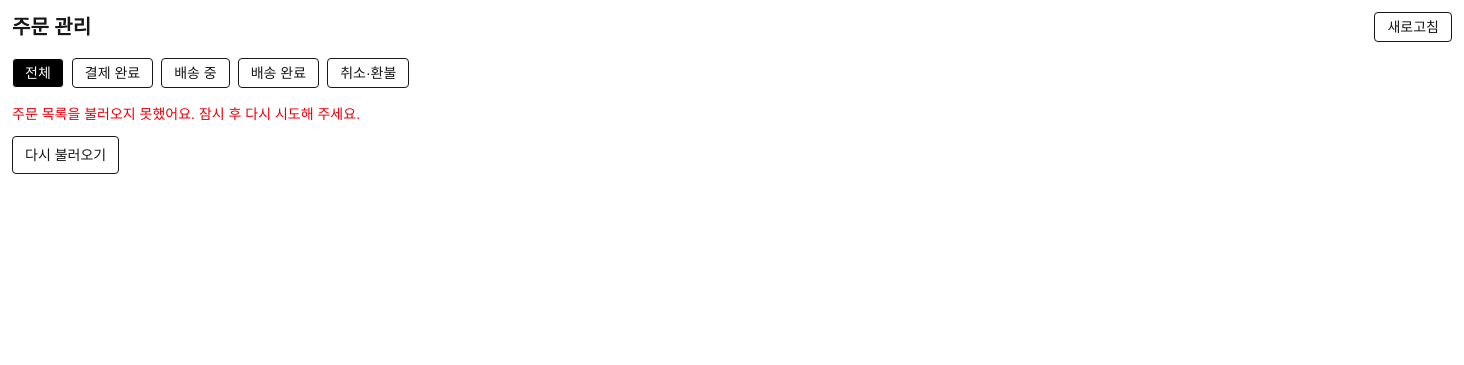
Test case: 관리자 주문 목록 › 실패: 불러오기에 실패하면 alert와 다시 불러오기 버튼을 보이고, 누르면 다시 가져온다
Expected: the message reads "주문 목록을 불러오지 못했어요. 잠시 후 다시 시도해 주세요.", [12,106,360,122]
Click the button "다시 불러오기".
click(66, 155)  # box [12,136,119,174]
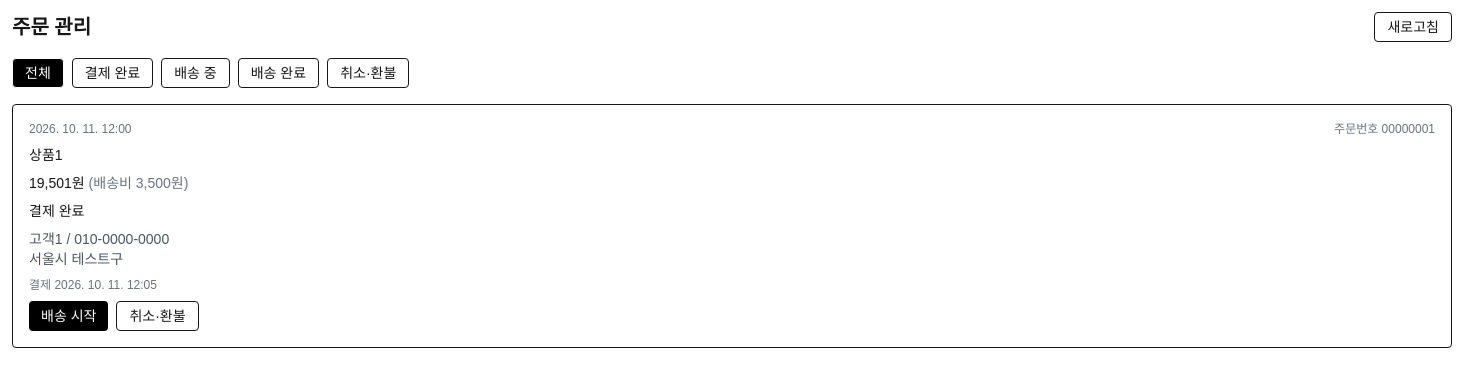
Now the text "상품1" is shown, box [29,147,62,163]
